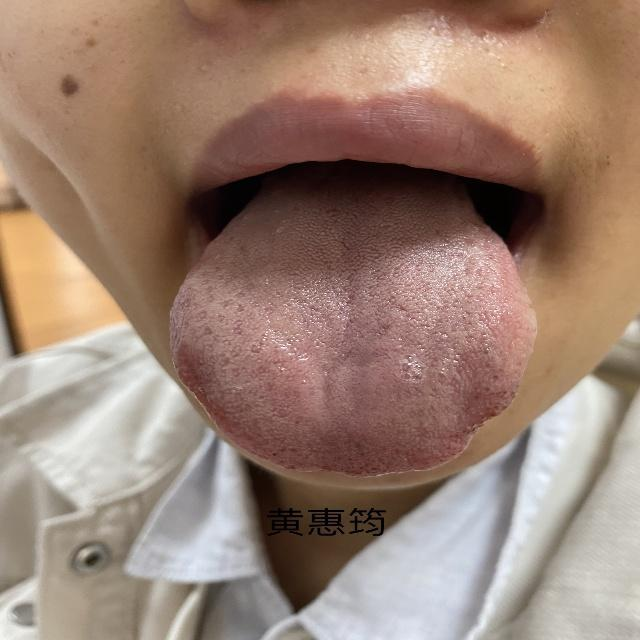baitaishe: (168, 193, 539, 479)
